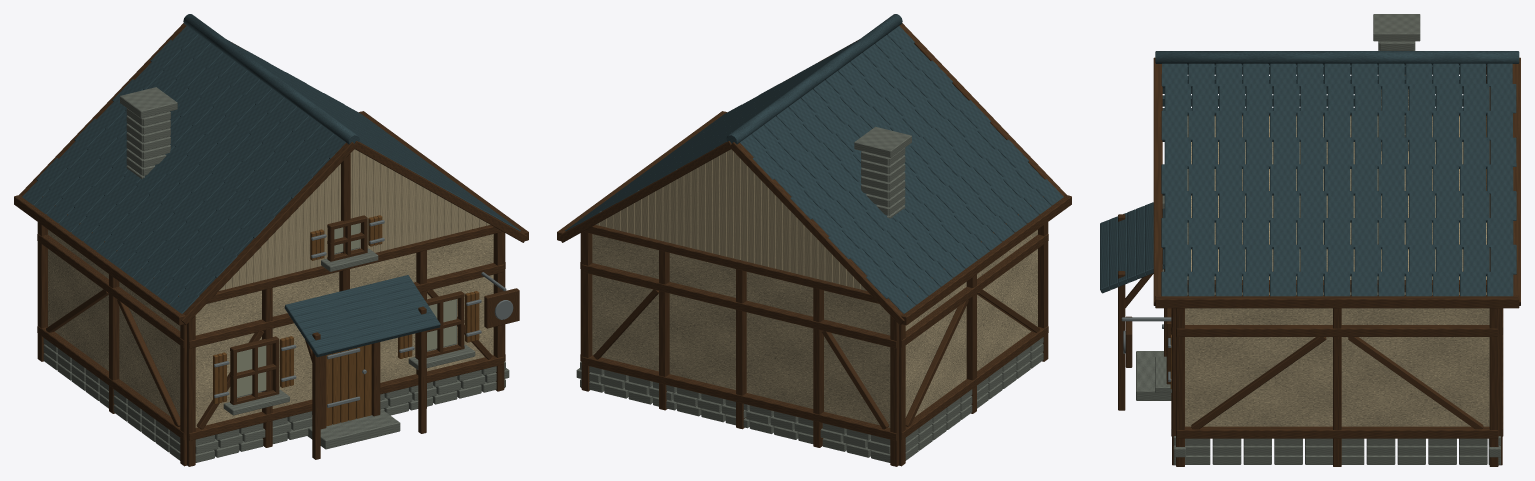
Rendered from workshop.glb.
3 renders of one model, left to right at view 1: azimuth 30°, elevation 25°; view 2: azimuth 150°, elevation 25°; view 3: azimuth 270°, elevation 25°, orthographic. The views are drawn at different scales.
Visible parts, largest first — view 1: workshop; view 2: workshop; view 3: workshop.
Part boxes in pixels (x1,y1,x2,y2): workshop: (14, 14, 528, 466); workshop: (557, 14, 1071, 466); workshop: (1100, 14, 1520, 466).
Bounding box in the file's own units: 7.94 × 6.49 × 7.52.
7 materials, 5 textured.
